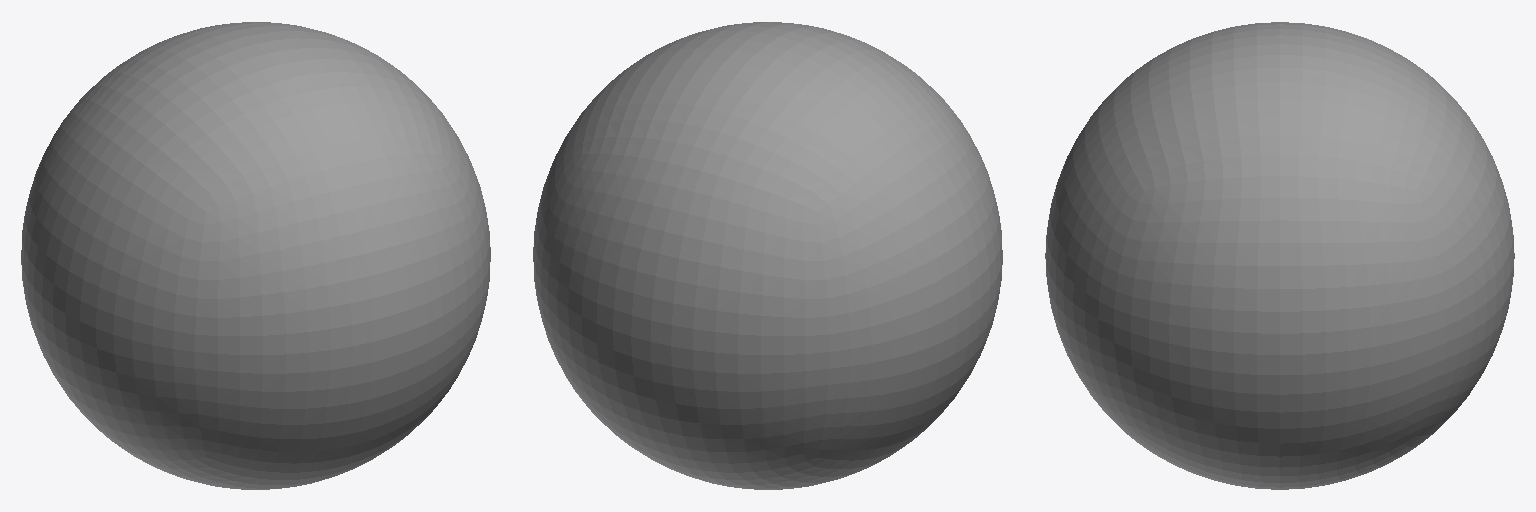
The model's file is earthobj.obj.
The picture shows the model from 3 angles: view 1: azimuth 30°, elevation 25°; view 2: azimuth 150°, elevation 25°; view 3: azimuth 270°, elevation 25°; orthographic projection.
Visible parts, largest first — view 1: Cube.001_Cube.002; view 2: Cube.001_Cube.002; view 3: Cube.001_Cube.002.
Boxes of the visible parts, box(x1,y1,x2,y2) form: Cube.001_Cube.002: box(21, 22, 490, 489); Cube.001_Cube.002: box(533, 22, 1002, 489); Cube.001_Cube.002: box(1045, 22, 1514, 489).
Size of the model in its own units: 7.11 by 7.09 by 7.11.